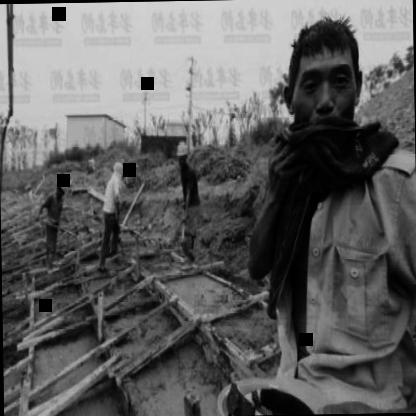head: (270, 13, 364, 162)
helmet: (54, 174, 69, 196), (176, 137, 186, 166), (112, 160, 124, 180)
